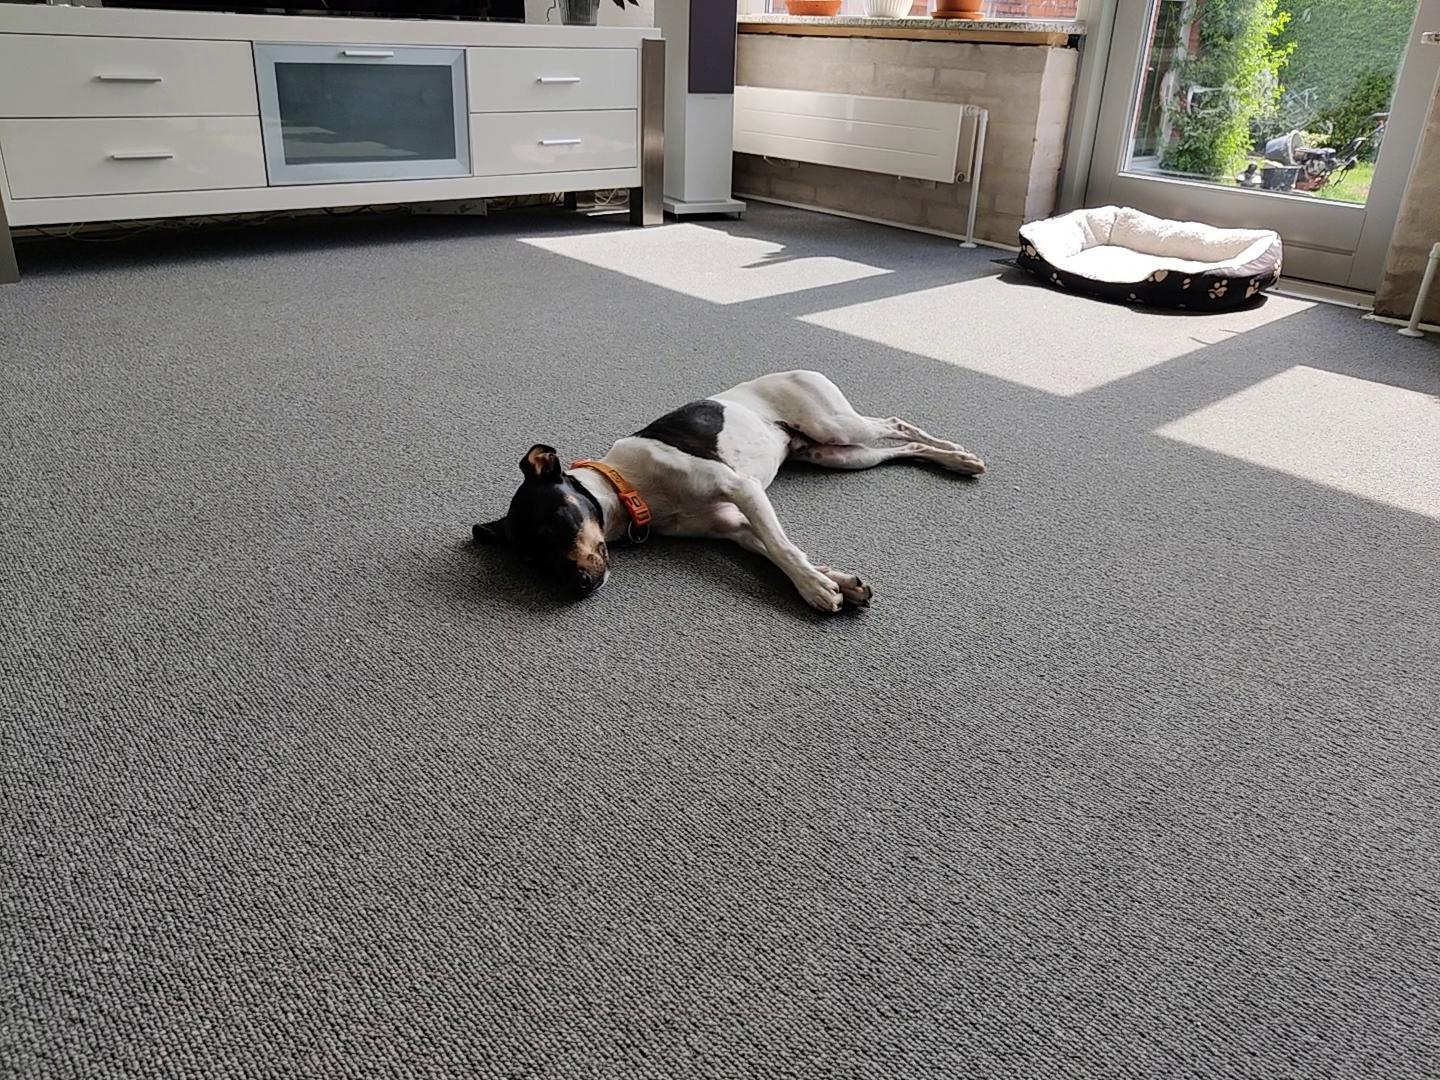Dog: (471, 364, 991, 618)
